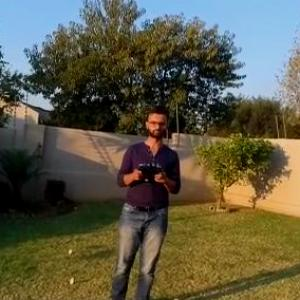follow: (107, 101, 186, 299)
